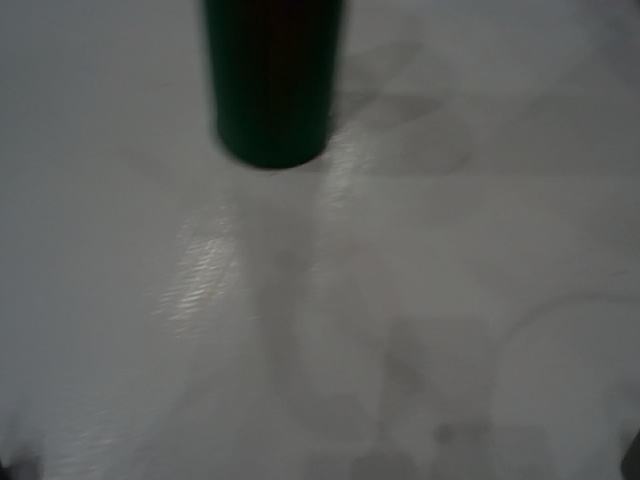zhuzi: (205, 1, 343, 168)
